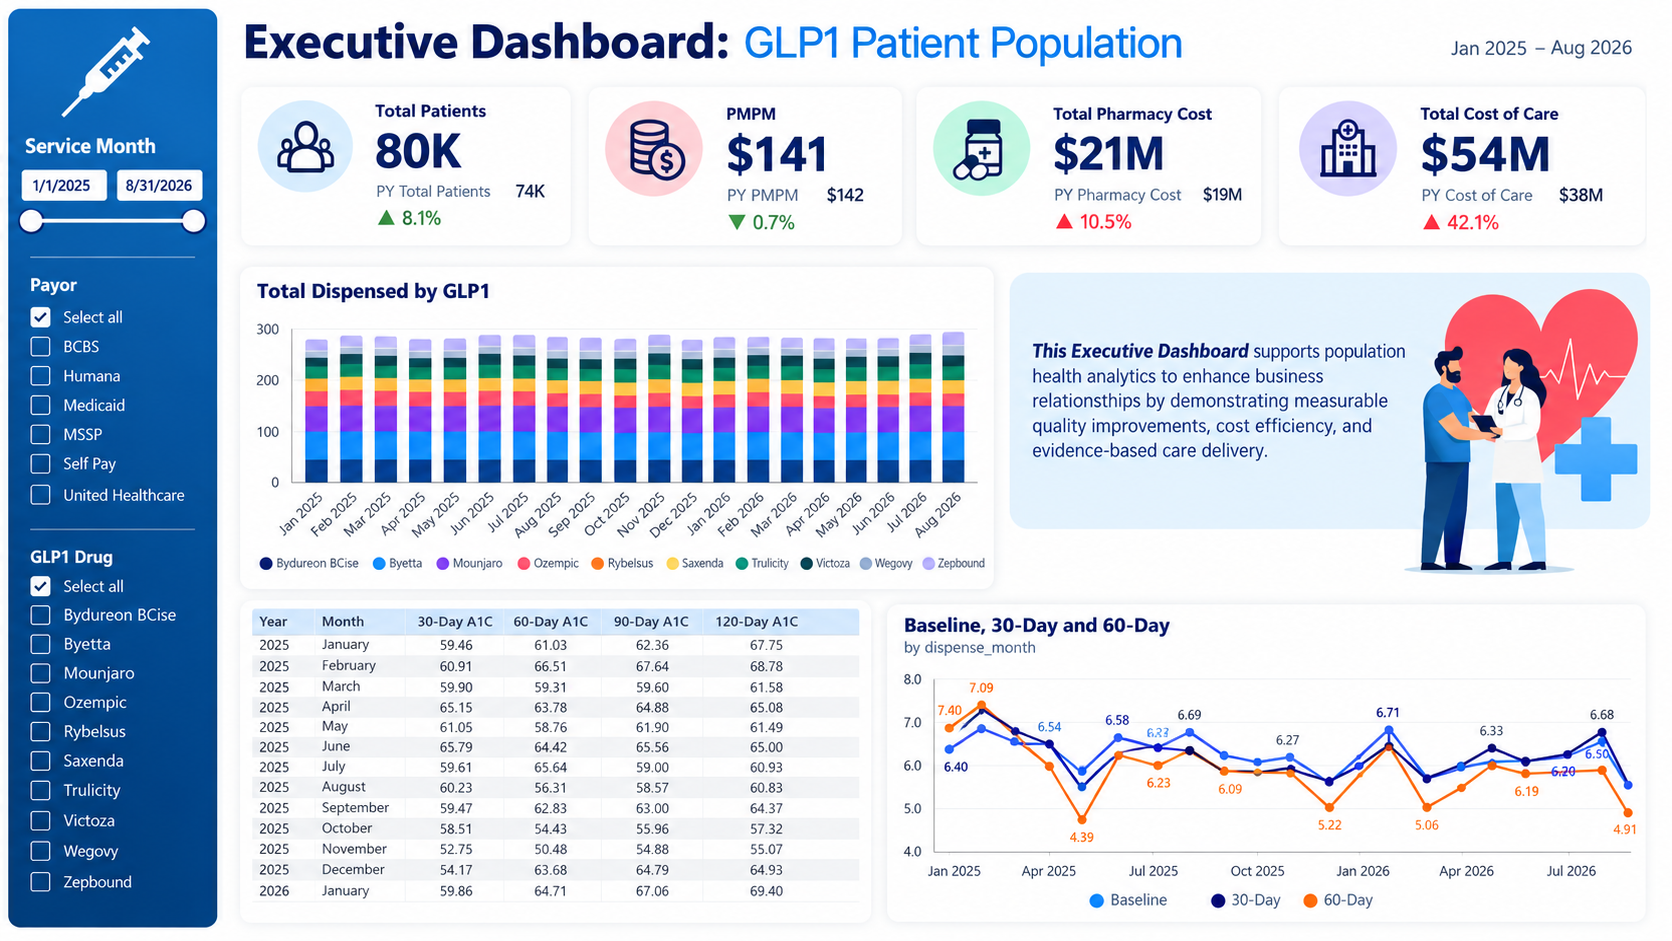

This screenshot's page, from the dashboard's own definition file:
{"tool":"powerbi","page":{"name":"Executive Summary","canvas":[1920,1080],"ordinal":0},"visuals":[{"type":"slicer","title":"Service Month","fields":{"Values":["aco_financial_performance.service_month"]},"box":[0,184.7,234.4,122.6],"z":0},{"type":"slicer","title":"Payor","fields":{"Values":["aco_financial_performance.payor"]},"box":[17.1,324.4,201.8,291.8],"z":1},{"type":"slicer","title":"GLP1 Drug","fields":{"Values":["glp1_clinical_outcomes.glp1_drug"]},"box":[12.4,634.8,206.4,423.7],"z":2},{"type":"cardVisual","fields":{"Data":["Sum(aco_financial_performance.unique_patients)","Avg(aco_financial_performance.calculated_pmpm)","Sum(aco_financial_performance.total_pharmacy_expense)","Sum(aco_financial_performance.total_eligible_expenditures)"]},"box":[254.3,90,1360.1,189.2],"z":3},{"type":"columnChart","title":"Total Dispensed by GLP1","fields":{"Category":["glp1_clinical_outcomes.dispense_month.Variation.Date Hierarchy.Year","glp1_clinical_outcomes.dispense_month.Variation.Date Hierarchy.Month"],"Series":["glp1_clinical_outcomes.glp1_drug"],"Y":["Sum(glp1_clinical_outcomes.unique_patients)"]},"box":[254.3,307.1,746,352.1],"z":7},{"type":"tableEx","fields":{"Values":["glp1_clinical_outcomes.dispense_month.Variation.Date Hierarchy.Year","glp1_clinical_outcomes.dispense_month.Variation.Date Hierarchy.Month","select","Sum(glp1_clinical_outcomes.average_30d_a1c)","Sum(glp1_clinical_outcomes.average_60d_a1c)","Sum(glp1_clinical_outcomes.average_90d_a1c)","Sum(glp1_clinical_outcomes.average_120d_a1c)"]},"box":[254.3,652.9,429.6,420.3],"z":8},{"type":"lineChart","fields":{"Category":["glp1_clinical_outcomes.dispense_month"],"Y":["Avg(glp1_clinical_outcomes.average_baseline_a1c)","Avg(glp1_clinical_outcomes.average_30d_a1c)","Avg(glp1_clinical_outcomes.average_60d_a1c)"]},"box":[683.9,659.1,1203.5,414.1],"z":9}]}

Visuals, with their boxes in screenshot pixels (x1, y1, x2, y2), scaled from the page's 1920x1080 canvas onto the 1672x941 screenshot:
"Service Month" slicer: box=[0, 161, 204, 268]
"Payor" slicer: box=[15, 283, 191, 537]
"GLP1 Drug" slicer: box=[11, 553, 191, 922]
cardVisual - Sum(aco_financial_performance.unique_patients) x Avg(aco_financial_performance.calculated_pmpm): box=[221, 78, 1406, 243]
"Total Dispensed by GLP1" columnChart: box=[221, 268, 871, 574]
tableEx - glp1_clinical_outcomes.dispense_month.Variation.Date Hierarchy.Year x glp1_clinical_outcomes.dispense_month.Variation.Date Hierarchy.Month: box=[221, 569, 596, 935]
lineChart - glp1_clinical_outcomes.dispense_month x Avg(glp1_clinical_outcomes.average_baseline_a1c): box=[596, 574, 1644, 935]
